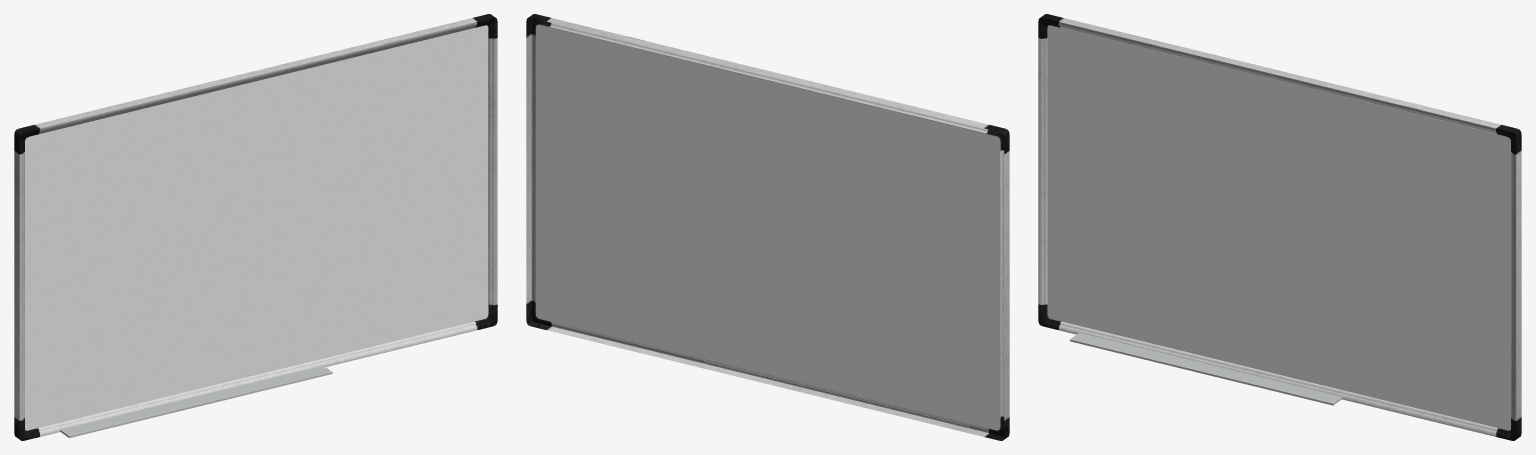
File: SM_Whiteboard.fbx
3 renders of one model, left to right at view 1: azimuth 30°, elevation 25°; view 2: azimuth 150°, elevation 25°; view 3: azimuth 330°, elevation 25°, orthographic.
Parts seen in each view (by area): view 1: SM_Whiteboard; view 2: SM_Whiteboard; view 3: SM_Whiteboard.
Boxes of the visible parts, bbox=[...] form: SM_Whiteboard: bbox=[14, 14, 497, 440]; SM_Whiteboard: bbox=[526, 14, 1009, 440]; SM_Whiteboard: bbox=[1038, 14, 1521, 440].
Bounding box in the file's own units: 217 × 11.14 × 134.
Materials: 1 (1 with a texture image).
